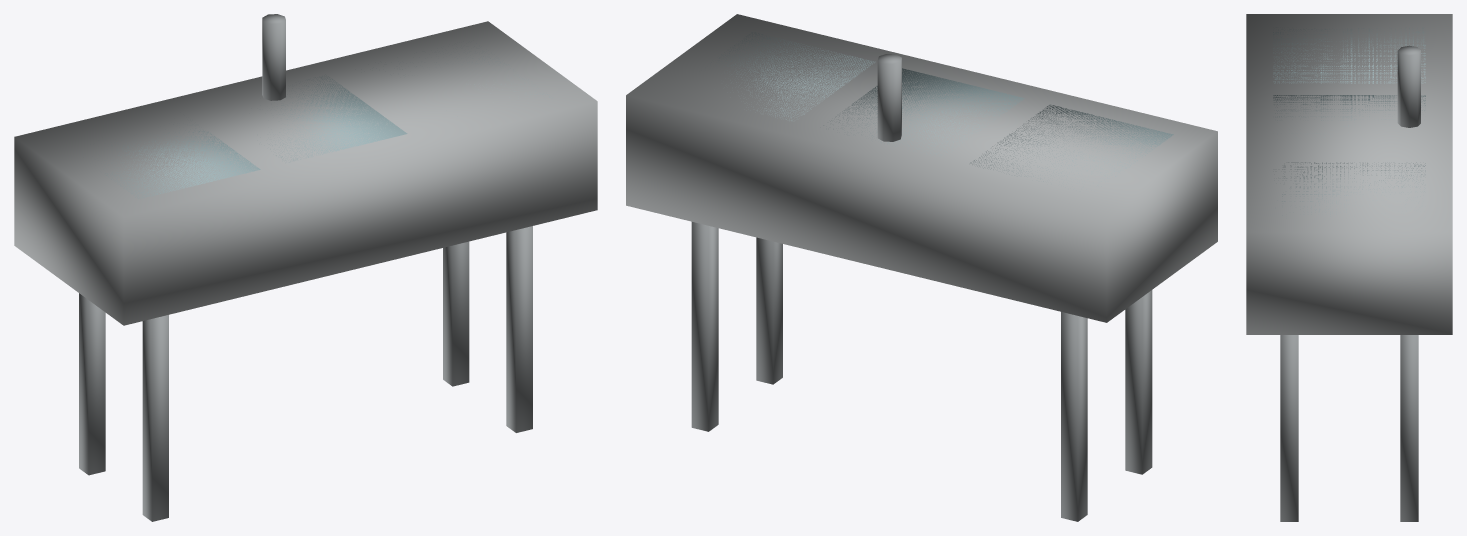
The model's file is three_bay_sink.glb.
3 views of the same model, side by side, from view 1: azimuth 30°, elevation 25°; view 2: azimuth 150°, elevation 25°; view 3: azimuth 270°, elevation 25° (orthographic). The views are drawn at different scales.
Visible parts, largest first — view 1: world; view 2: world; view 3: world.
Part boxes in pixels (box(x1,y1,x2,y2)): world: box(14, 14, 597, 521); world: box(626, 14, 1217, 521); world: box(1246, 14, 1452, 521).
Size of the model in its own units: 1.55 by 1.27 by 0.62.
